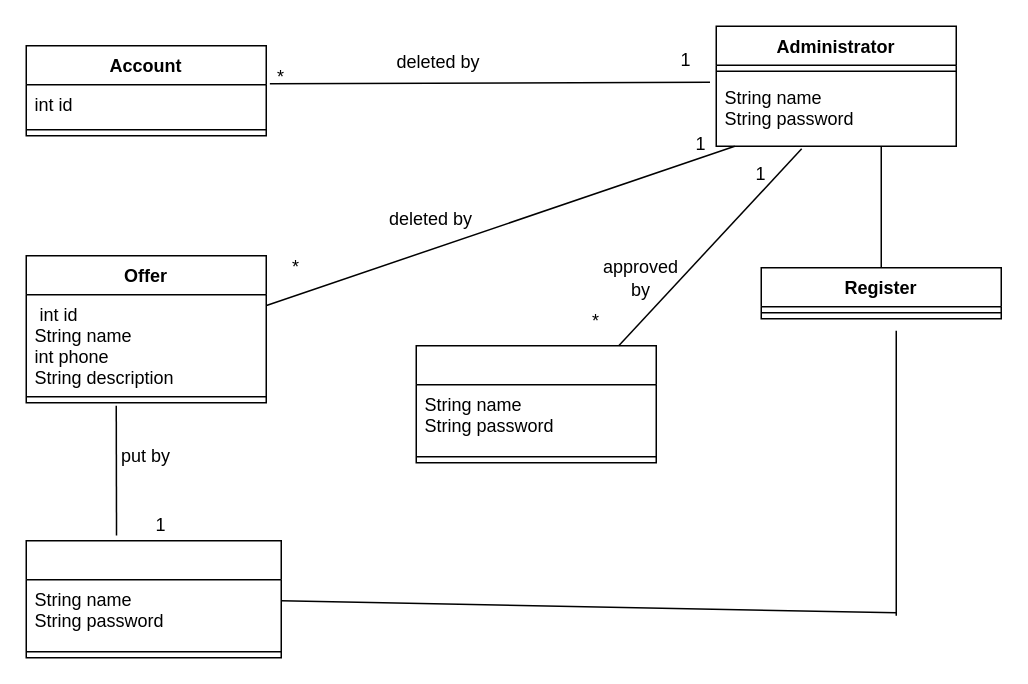
This 1028x684 diagram has some shape labels left out. Here are the shapes that lost their labels. From the top down, the box of each, then its label:
(415, 344, 656, 463): NewUser
(25, 539, 281, 658): House Owner
